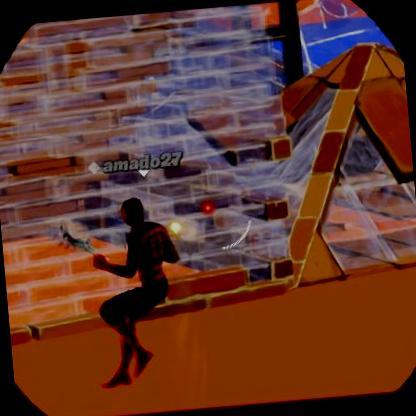person: (83, 192, 191, 394)
